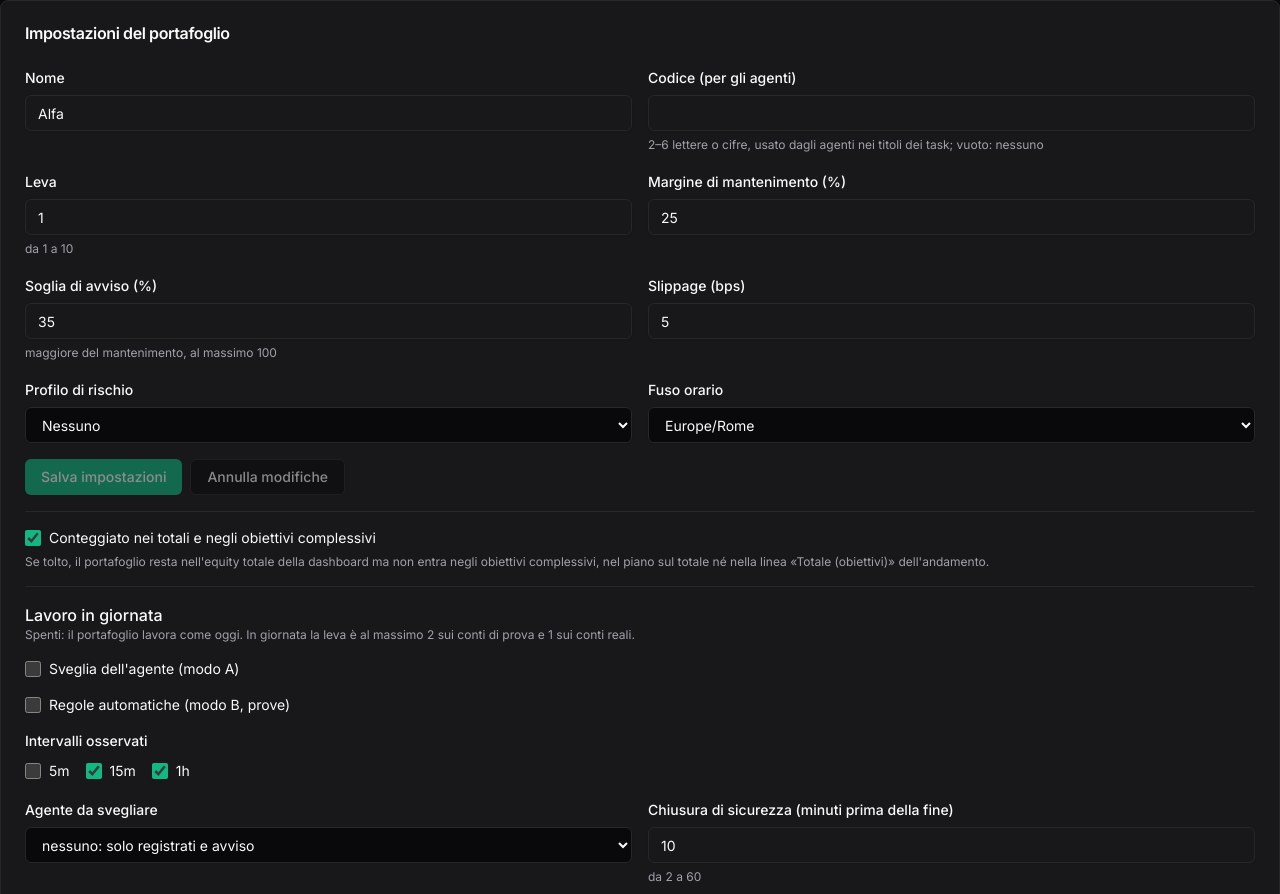
Test: PortfolioSettings: lavoro in giornata › shows the server refusal of the automatic rules under the switch and leaves it off
The width and height of the screenshot is (1280, 894).
Click the checkbox labelled "Regole automatiche (modo B, prove)". click: (33, 705)
box: [25,697,41,713]
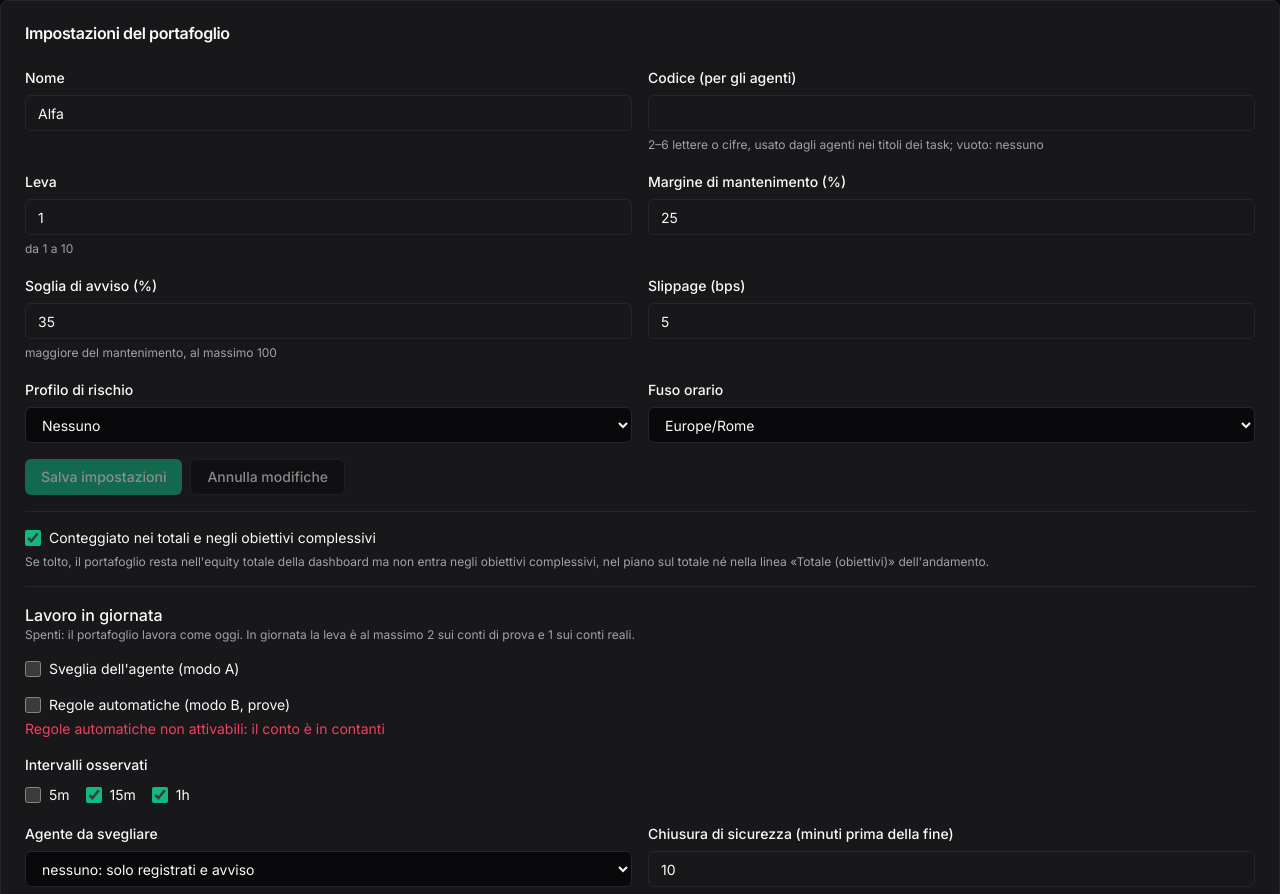
Now the text "Regole automatiche non attivabili: il conto è in contanti" is shown, box [25,720,385,737]
